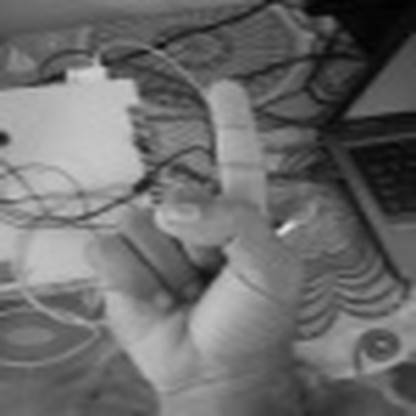d: (91, 67, 288, 416)
